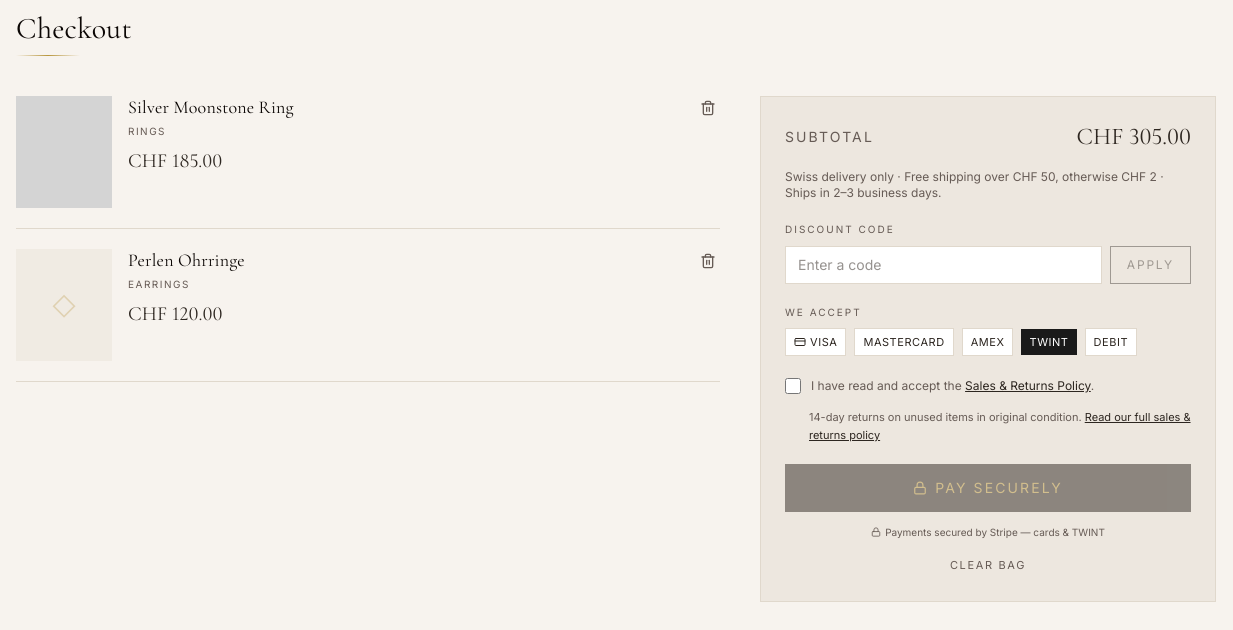
Checkout discount code › shows what came off and the new total
Step 1. Type "WELCOME10" into the field labelled "Discount code" → (943, 264), box [785,246,1102,284]
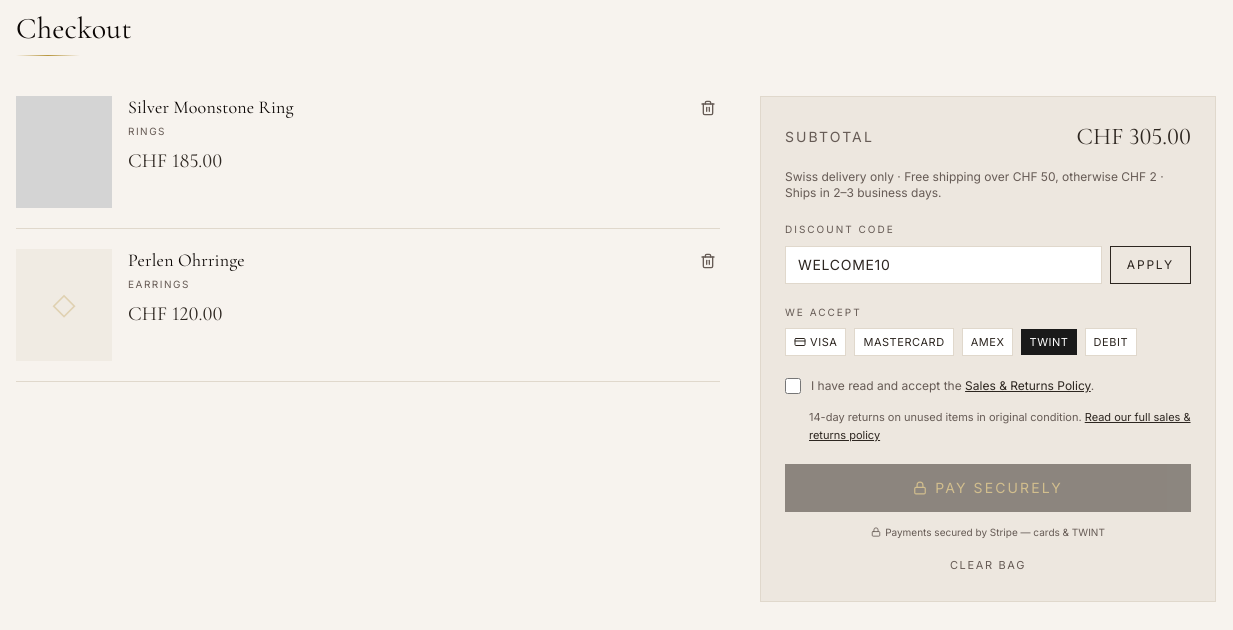
Step 2. Click the button "Apply" → (1150, 264), box [1110,246,1191,284]
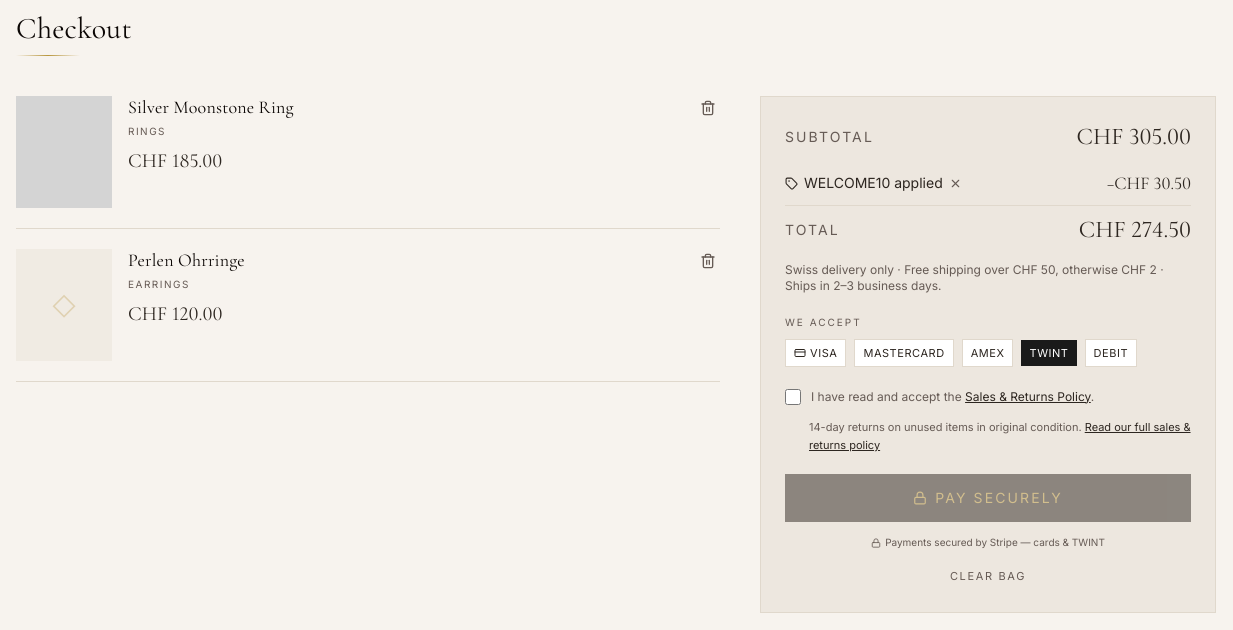
Expected: the text "CHF 305.00" is shown, [1077,121,1191,153]
Now the text "−CHF 30.50" is shown, box [1107,169,1191,197]
Now the text "CHF 274.50" is shown, box [1079,214,1191,246]
